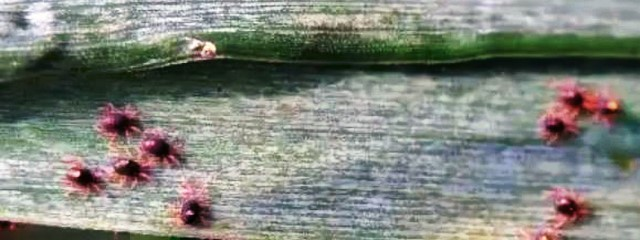Wheat Red Spider: (31, 109, 215, 232)
